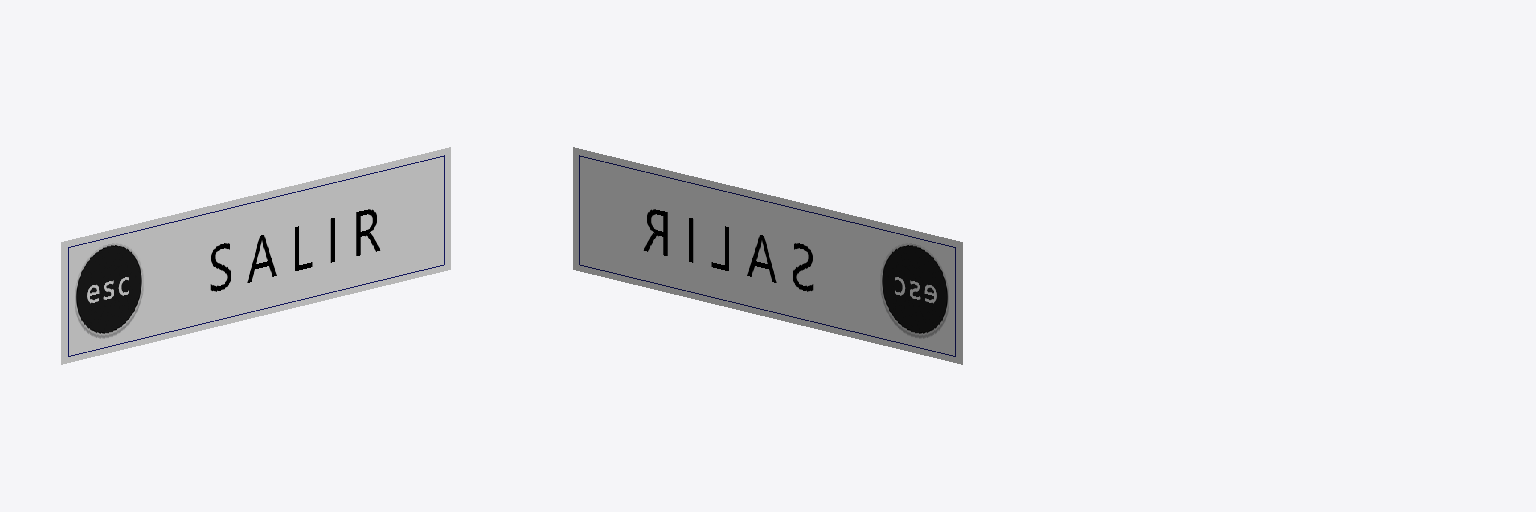
3 views of the same model, side by side, from view 1: azimuth 30°, elevation 25°; view 2: azimuth 150°, elevation 25°; view 3: azimuth 270°, elevation 25° (orthographic).
Visible parts, largest first — view 1: pPlane1; view 2: pPlane1; view 3: none.
Part boxes in pixels (bbox=[...]): pPlane1: bbox=[61, 147, 450, 364]; pPlane1: bbox=[573, 147, 962, 364].
Bounding box in the file's own units: 1 × 0.3 × 0.
Materials: 1 (1 with a texture image).